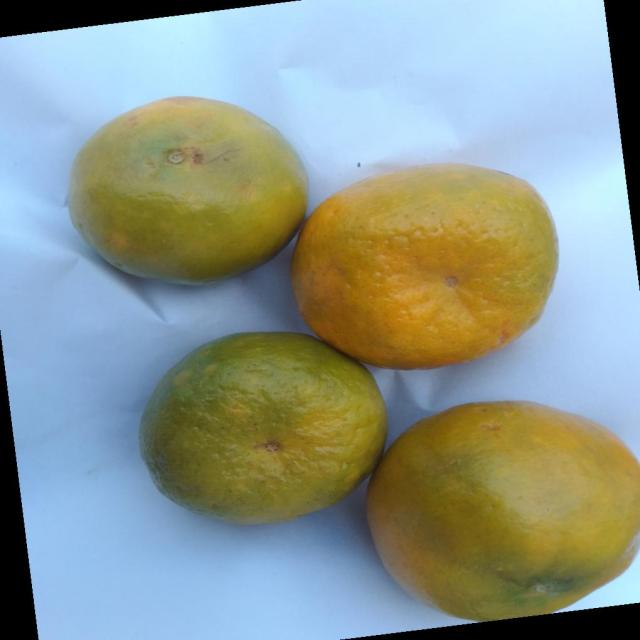fresh orange: (364, 398, 638, 622), (289, 160, 559, 370), (138, 329, 387, 526), (67, 94, 308, 286)
